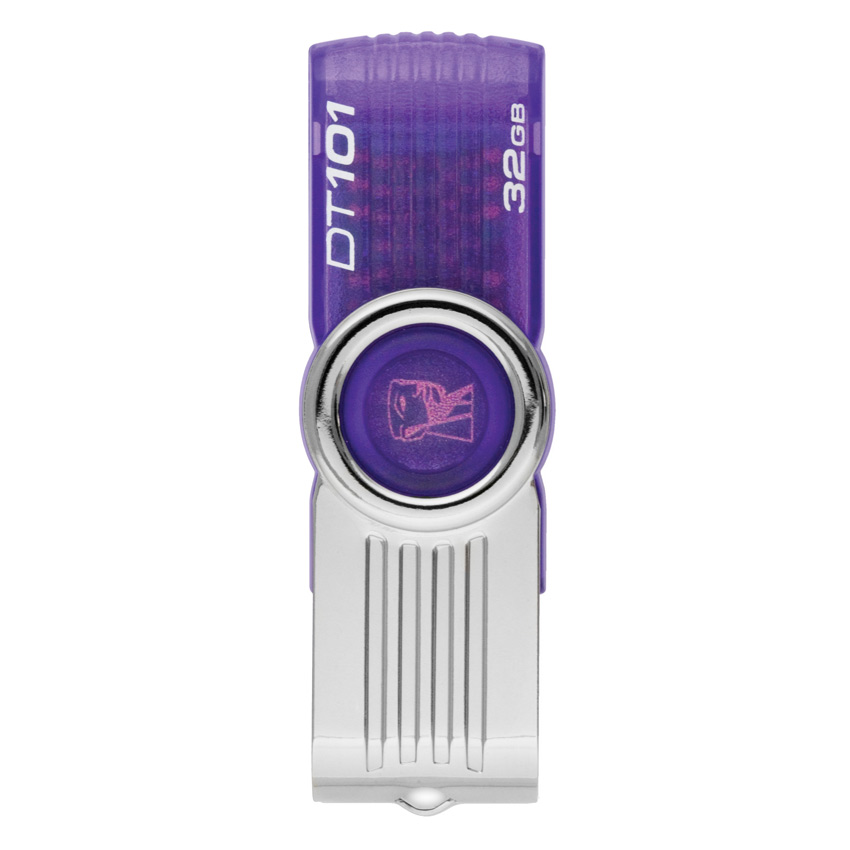Kingston: (382, 357, 485, 464)
